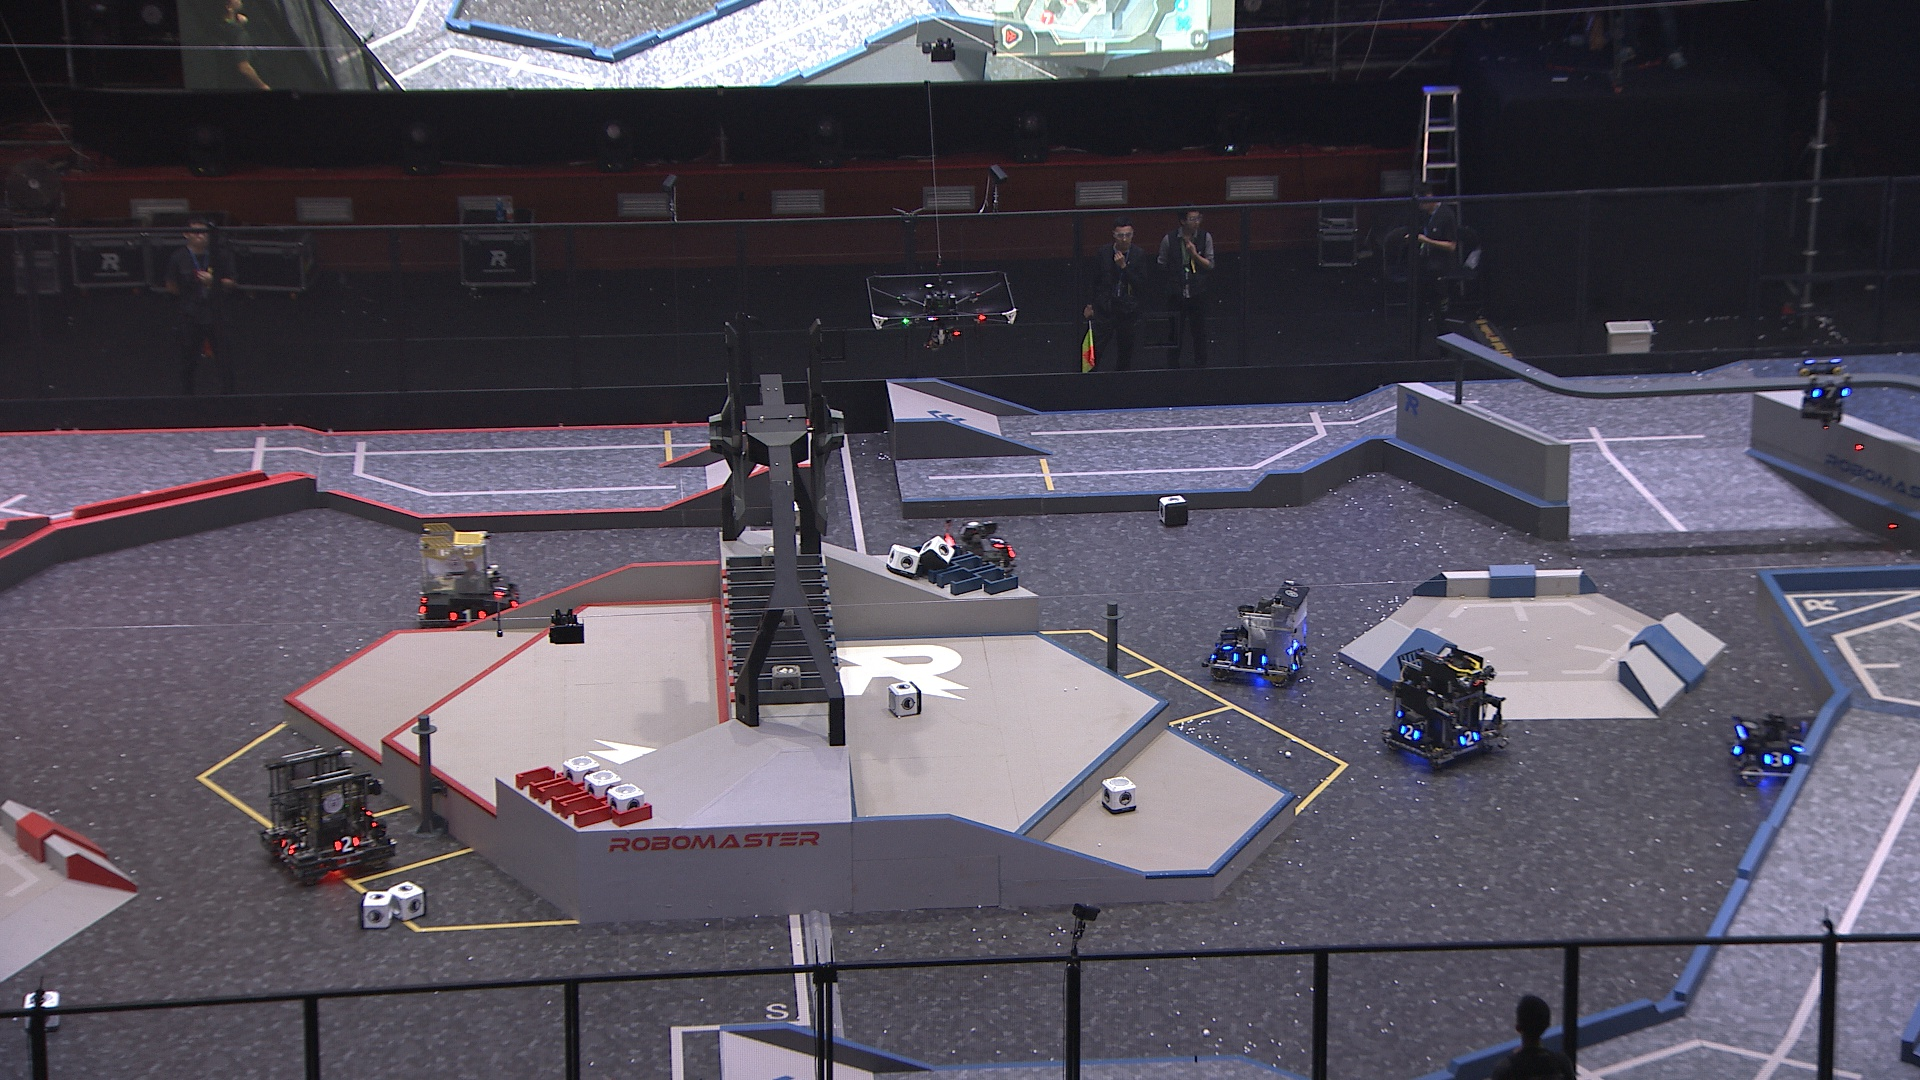armor: (1811, 381, 1851, 404), (1232, 651, 1265, 669), (451, 608, 485, 622), (332, 833, 359, 851), (1766, 752, 1793, 767), (1789, 731, 1807, 756), (1399, 723, 1420, 742), (277, 837, 294, 860), (1218, 632, 1236, 651), (493, 579, 509, 599), (1460, 731, 1480, 746), (992, 533, 1006, 553), (1727, 737, 1742, 756), (1292, 651, 1305, 671)
car: (258, 746, 401, 882), (1381, 646, 1513, 769), (1211, 578, 1317, 688), (414, 522, 520, 633), (1727, 711, 1817, 787), (930, 518, 1019, 593)
watcher: (1793, 356, 1855, 431)
